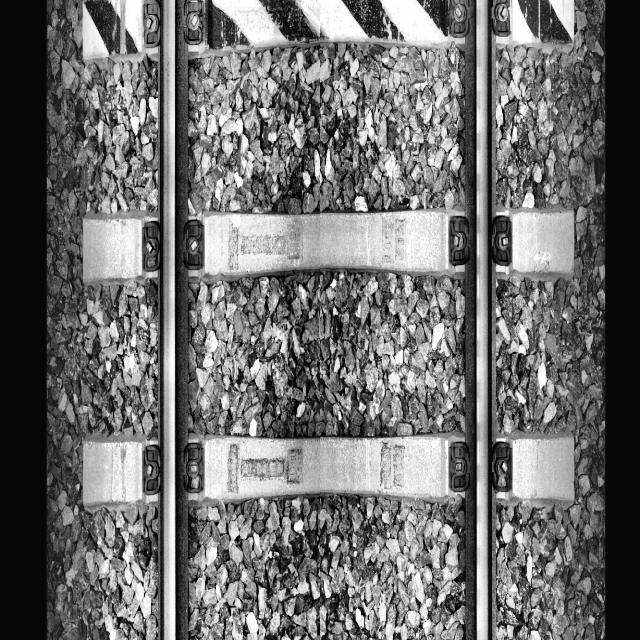Clips: (490, 441, 514, 496), (448, 441, 472, 493), (182, 440, 204, 496), (448, 215, 471, 268), (490, 215, 513, 268), (179, 1, 206, 46), (140, 219, 162, 270), (182, 221, 204, 267), (141, 1, 162, 48), (142, 444, 161, 494), (446, 0, 469, 38), (489, 0, 511, 36)
Sleepers: (82, 434, 577, 504), (83, 210, 576, 280), (81, 0, 576, 60)
